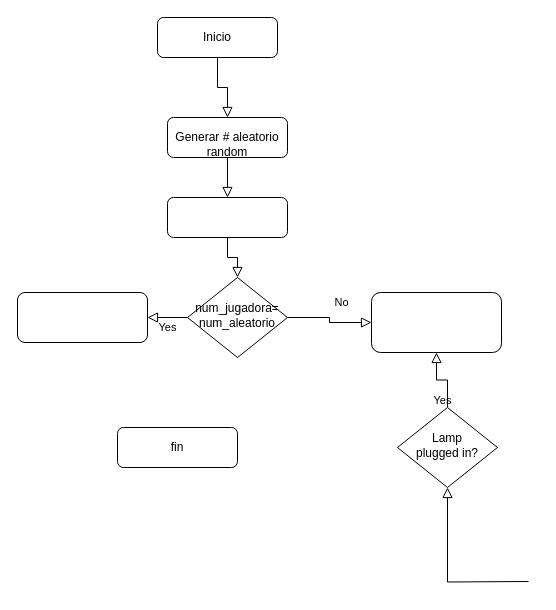
Image size: 556x610. Some labels were removed from this diagram. The box of each missing label's shape, as (x1, y1, x2, y2) in pixels:
El ordenador puede hacer una suposición aleatoria: (370, 292, 502, 352)
input para obtener entrada jugadora: (166, 196, 288, 238)
mensaje ganador y lista de numerosque digito: (16, 292, 148, 342)
